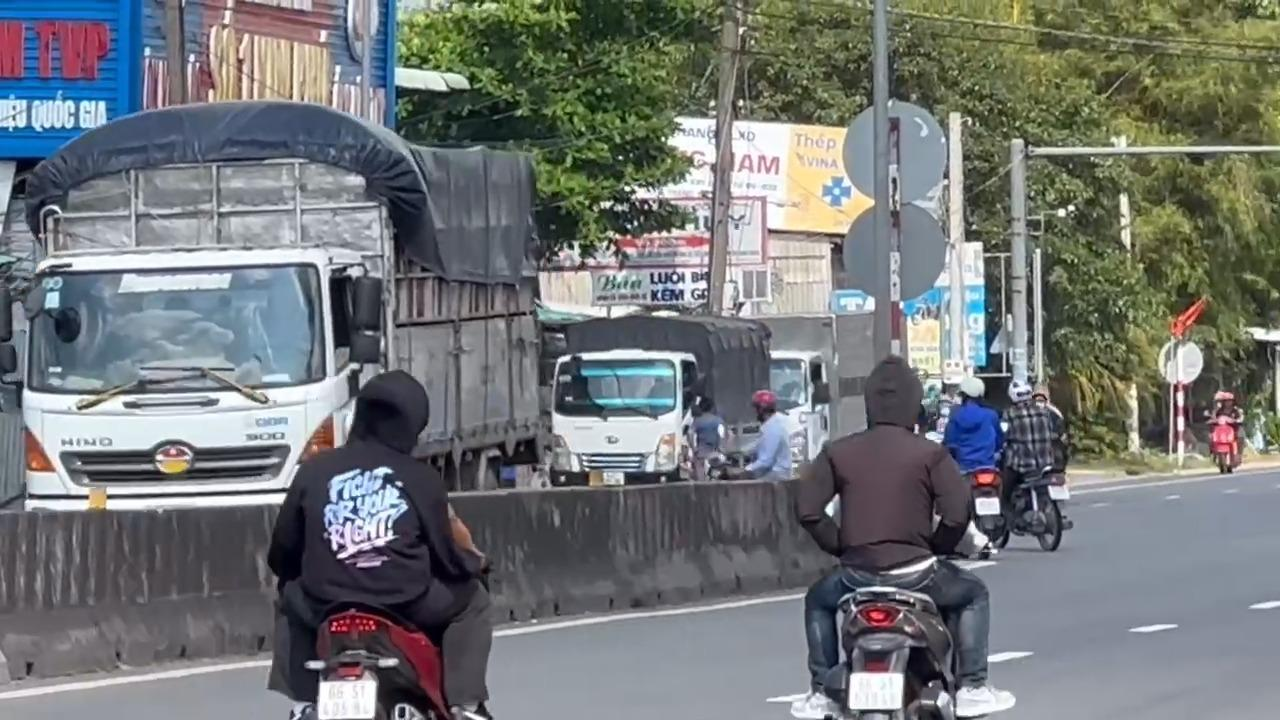bien_so: (315, 675, 377, 718), (846, 670, 904, 711)
